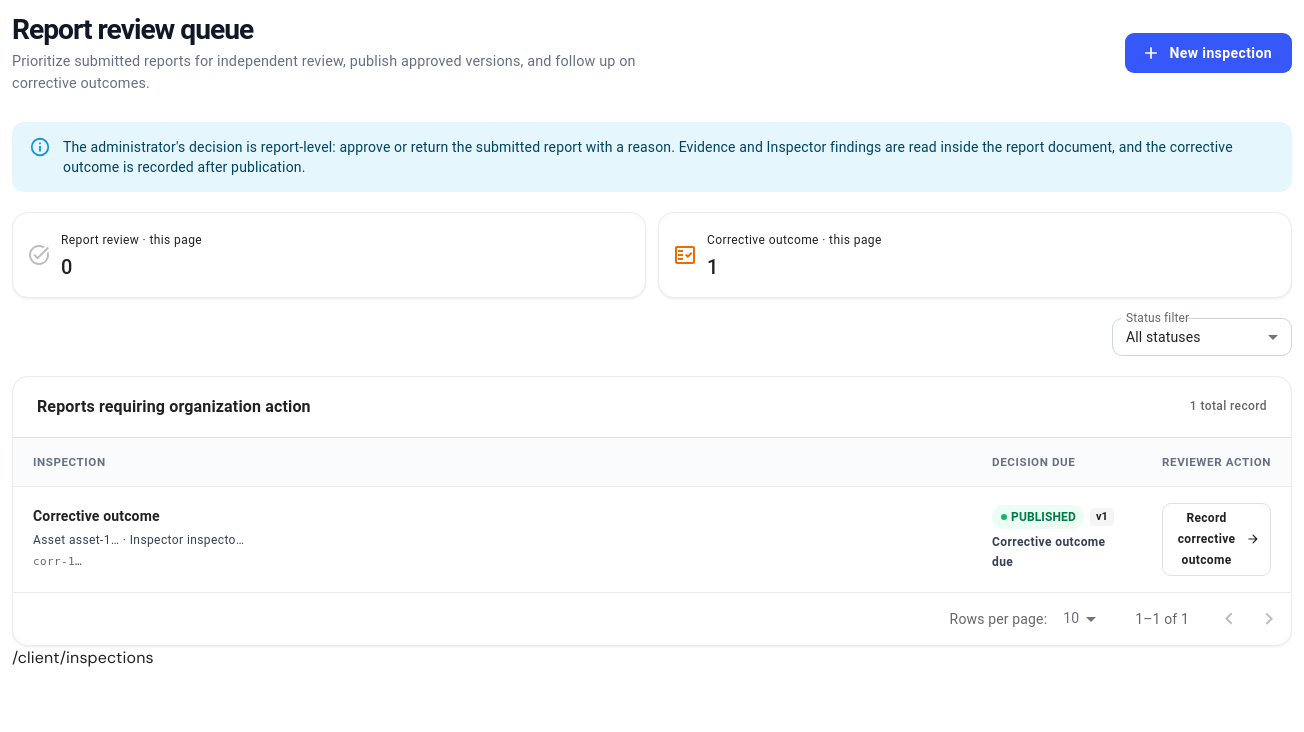
it: InspectionsPage › opens the phase a row is waiting in, rather than a fixed tab
The image size is (1304, 732).
Click the button "Record corrective outcome" at {"x": 1217, "y": 539}, box [1162,503,1271,576]
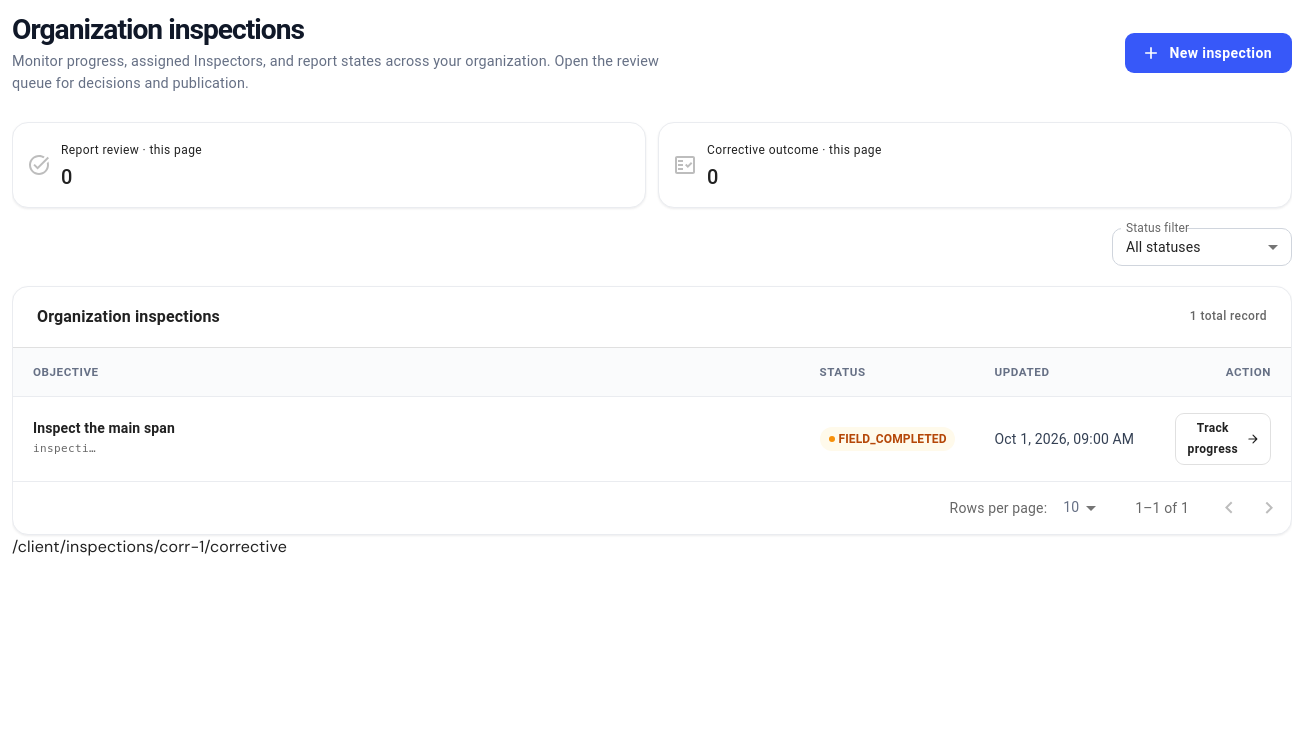
Check: the text with test id "location" reads "/client/inspections/corr-1/corrective", box [12,536,287,556]
